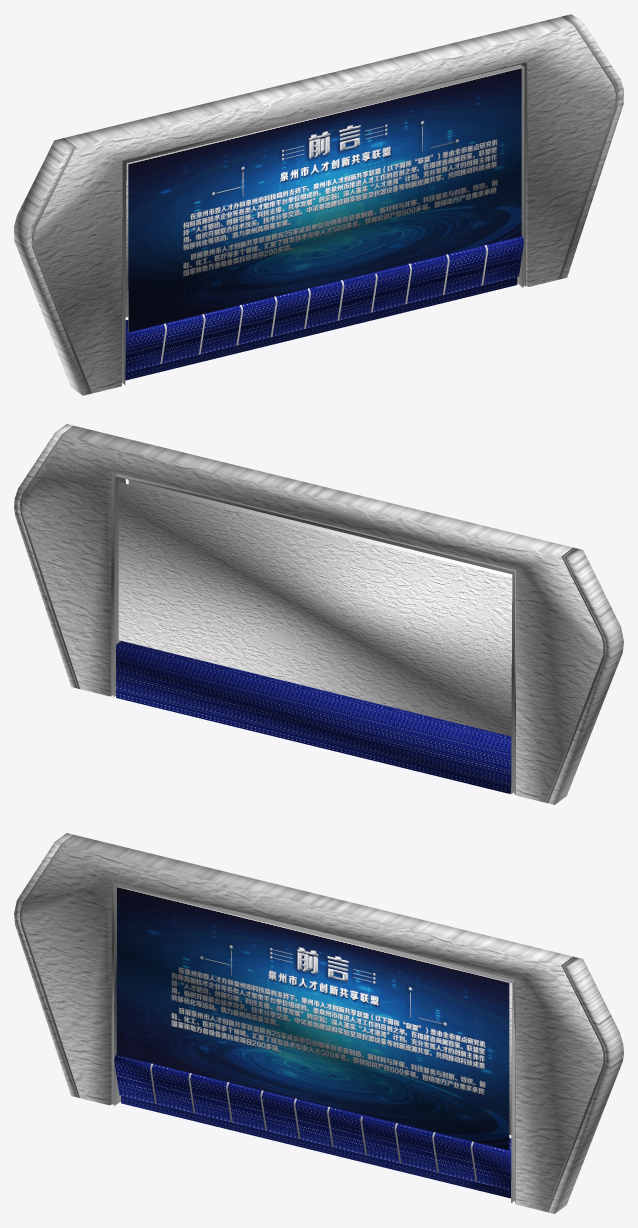
Rendered from dianshiqiang2.obj.
3 views of the same model, one above another, from view 1: azimuth 30°, elevation 25°; view 2: azimuth 150°, elevation 25°; view 3: azimuth 330°, elevation 25° (orthographic).
Visible parts, largest first — view 1: Obj3d66_783816_588_784, Obj3d66_783816_538_577, Obj3d66_783816_621_630, Obj3d66_783816_561_816, Obj3d66_783816_537_919, Obj3d66_783816_560_961, Obj3d66_783816_622_605, Obj3d66_783816_580_212; view 2: Obj3d66_783816_580_212, Obj3d66_783816_538_577, Obj3d66_783816_621_630, Obj3d66_783816_561_816, Obj3d66_783816_560_961, Obj3d66_783816_588_784, Obj3d66_783816_537_919; view 3: Obj3d66_783816_588_784, Obj3d66_783816_538_577, Obj3d66_783816_621_630, Obj3d66_783816_561_816, Obj3d66_783816_537_919, Obj3d66_783816_560_961, Obj3d66_783816_622_605, Obj3d66_783816_580_212.
Part boxes in pixels (left/top/right/bottom): Obj3d66_783816_588_784: left=128, top=68, right=521, bottom=332; Obj3d66_783816_538_577: left=14, top=14, right=623, bottom=395; Obj3d66_783816_621_630: left=125, top=236, right=523, bottom=380; Obj3d66_783816_561_816: left=122, top=64, right=524, bottom=384; Obj3d66_783816_537_919: left=31, top=16, right=618, bottom=393; Obj3d66_783816_560_961: left=121, top=62, right=526, bottom=385; Obj3d66_783816_622_605: left=160, top=245, right=487, bottom=363; Obj3d66_783816_580_212: left=125, top=114, right=328, bottom=317; Obj3d66_783816_580_212: left=118, top=482, right=512, bottom=736; Obj3d66_783816_538_577: left=14, top=424, right=623, bottom=804; Obj3d66_783816_621_630: left=116, top=641, right=511, bottom=793; Obj3d66_783816_561_816: left=113, top=474, right=514, bottom=793; Obj3d66_783816_560_961: left=111, top=472, right=515, bottom=794; Obj3d66_783816_588_784: left=128, top=480, right=512, bottom=577; Obj3d66_783816_537_919: left=20, top=426, right=605, bottom=803; Obj3d66_783816_588_784: left=116, top=886, right=509, bottom=1149; Obj3d66_783816_538_577: left=14, top=833, right=623, bottom=1213; Obj3d66_783816_621_630: left=114, top=1054, right=511, bottom=1198; Obj3d66_783816_561_816: left=113, top=882, right=515, bottom=1202; Obj3d66_783816_537_919: left=19, top=835, right=605, bottom=1212; Obj3d66_783816_560_961: left=111, top=881, right=515, bottom=1203; Obj3d66_783816_622_605: left=150, top=1063, right=477, bottom=1182; Obj3d66_783816_580_212: left=125, top=888, right=512, bottom=1134.
Bounding box in the file's own units: 10005 × 4000 × 400.
